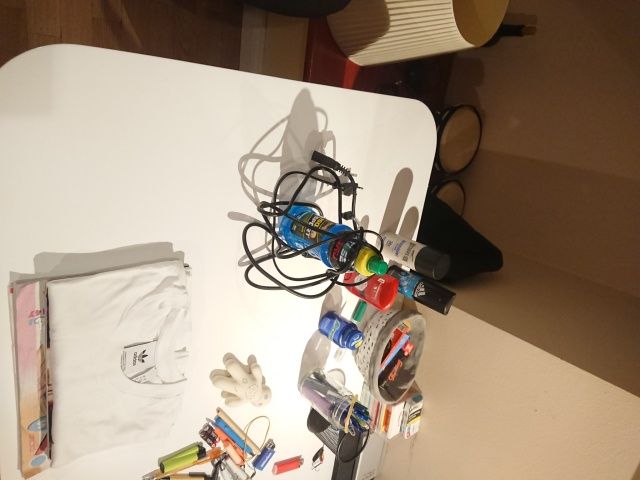Vindi Iso Sport Forest Strawberries 500mL: (278, 204, 389, 277)
